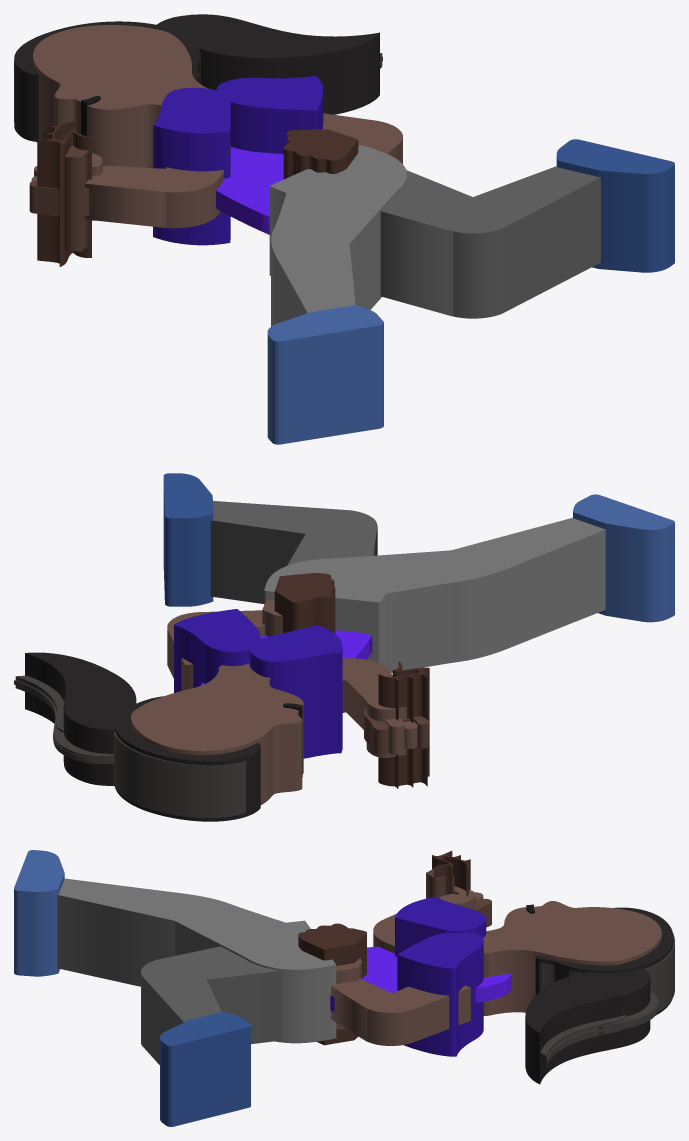
File: emoji_u1f3c3_1f3ff_200d_2640.glb
3 renders of one model, top to bottom at view 1: azimuth 30°, elevation 25°; view 2: azimuth 150°, elevation 25°; view 3: azimuth 270°, elevation 25°, orthographic. The views are drawn at different scales.
Visible parts, largest first — view 1: emoji_u1f3c3_1f3ff_200d_2640; view 2: emoji_u1f3c3_1f3ff_200d_2640; view 3: emoji_u1f3c3_1f3ff_200d_2640.
Part boxes in pixels (left/top/right/bottom): emoji_u1f3c3_1f3ff_200d_2640: left=14, top=14, right=674, bottom=444; emoji_u1f3c3_1f3ff_200d_2640: left=14, top=473, right=674, bottom=821; emoji_u1f3c3_1f3ff_200d_2640: left=14, top=850, right=674, bottom=1126.
Bounding box in the file's own units: 0.0227 × 0.0054 × 0.0326.
